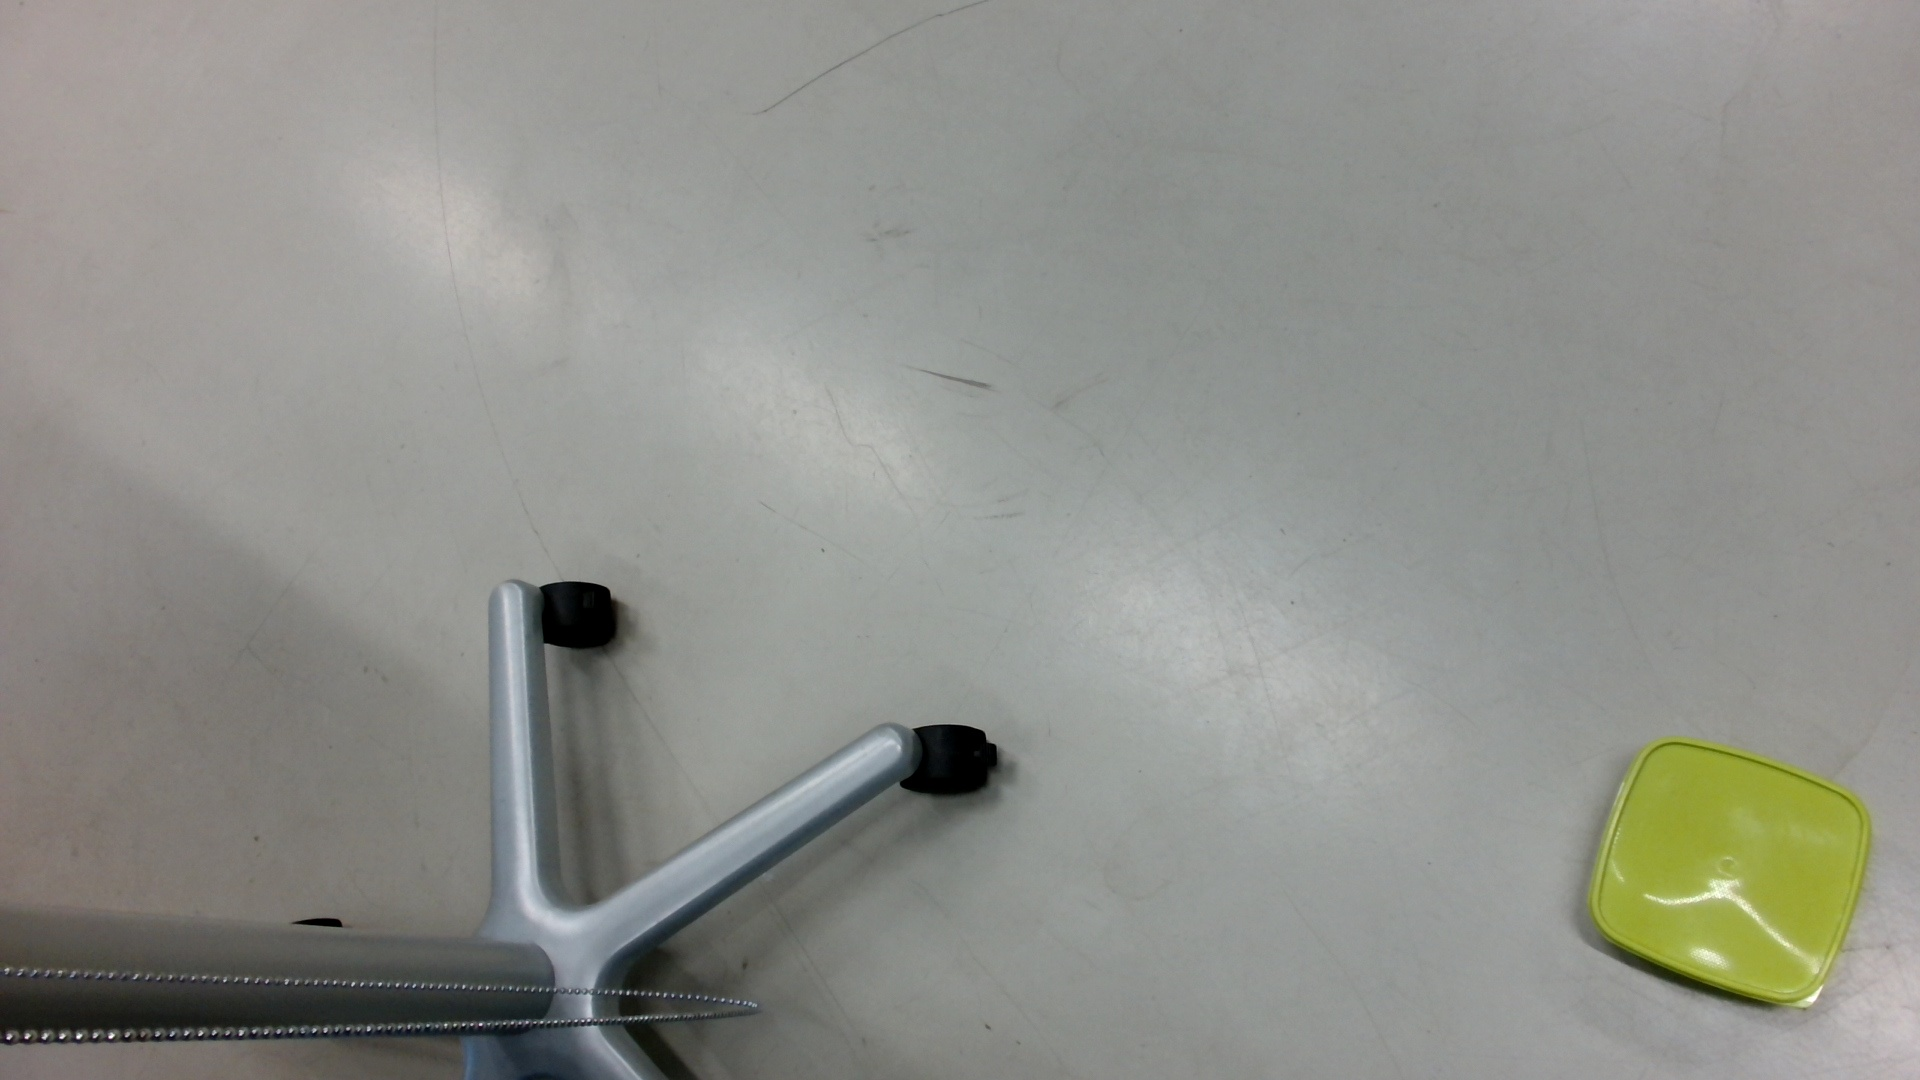Box: (1582, 735, 1878, 1022)
